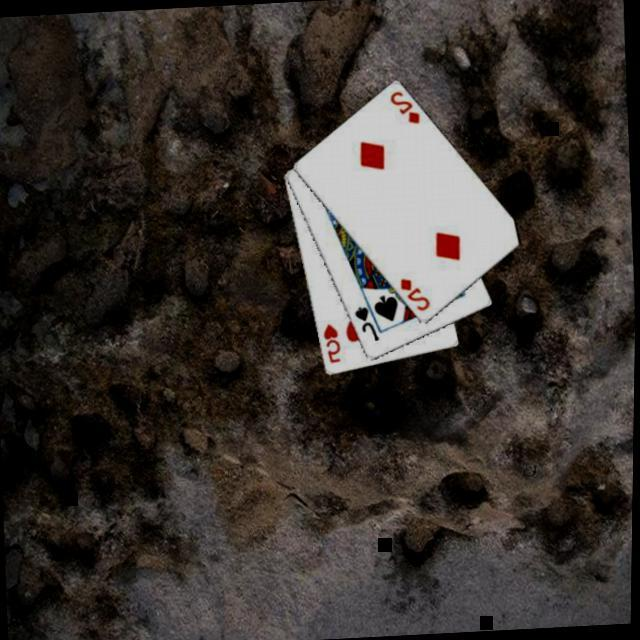2D: (395, 276, 431, 316), (385, 89, 421, 129)
5H: (319, 322, 343, 368)
JS: (351, 305, 381, 346)
